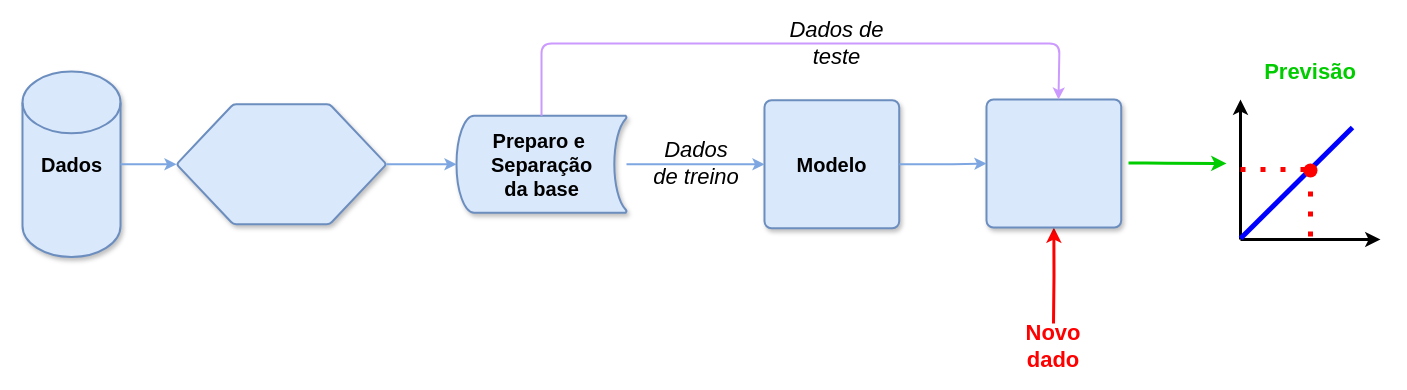
Image size: 1407x390. Some labels were removed from this diagram. The centre of each missing label's shape, as x and y in pixels:
Análise exploratória: (282,165)
Regressão: (1054,164)
